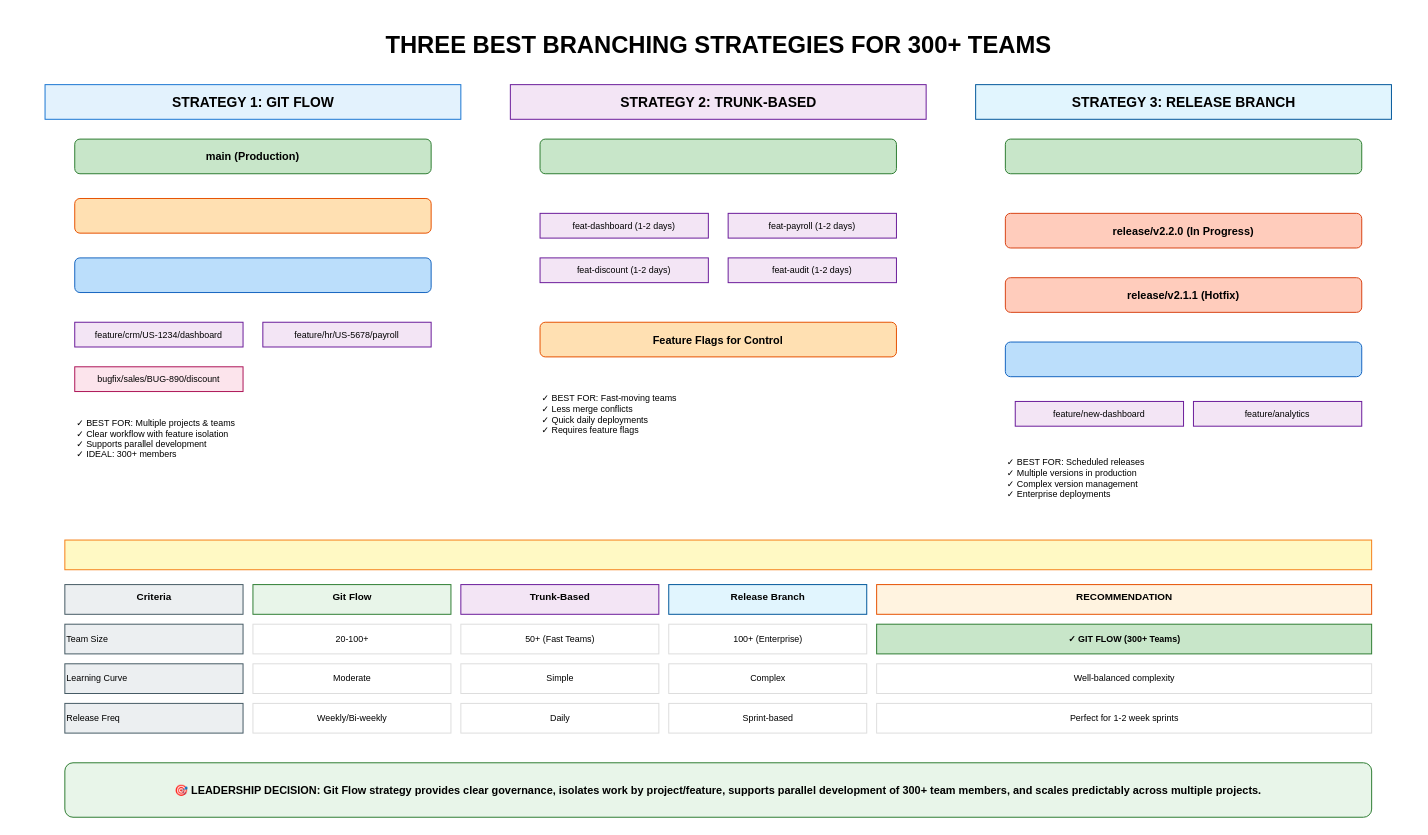
Image size: 1428x835. Some labels were removed from this diagram. The box of each missing label's shape, as (x1, y1, x2, y2) in pixels:
COMPARISON & RECOMMENDATION: (64, 539, 1372, 570)
develop (Next Release 2.3.0): (1004, 341, 1362, 377)
develop (Test Integration): (74, 257, 431, 293)
main (Always Deployable): (539, 138, 896, 174)
main (v2.1.0): (1004, 138, 1362, 174)
release/* (Pre-Production): (74, 198, 431, 233)
